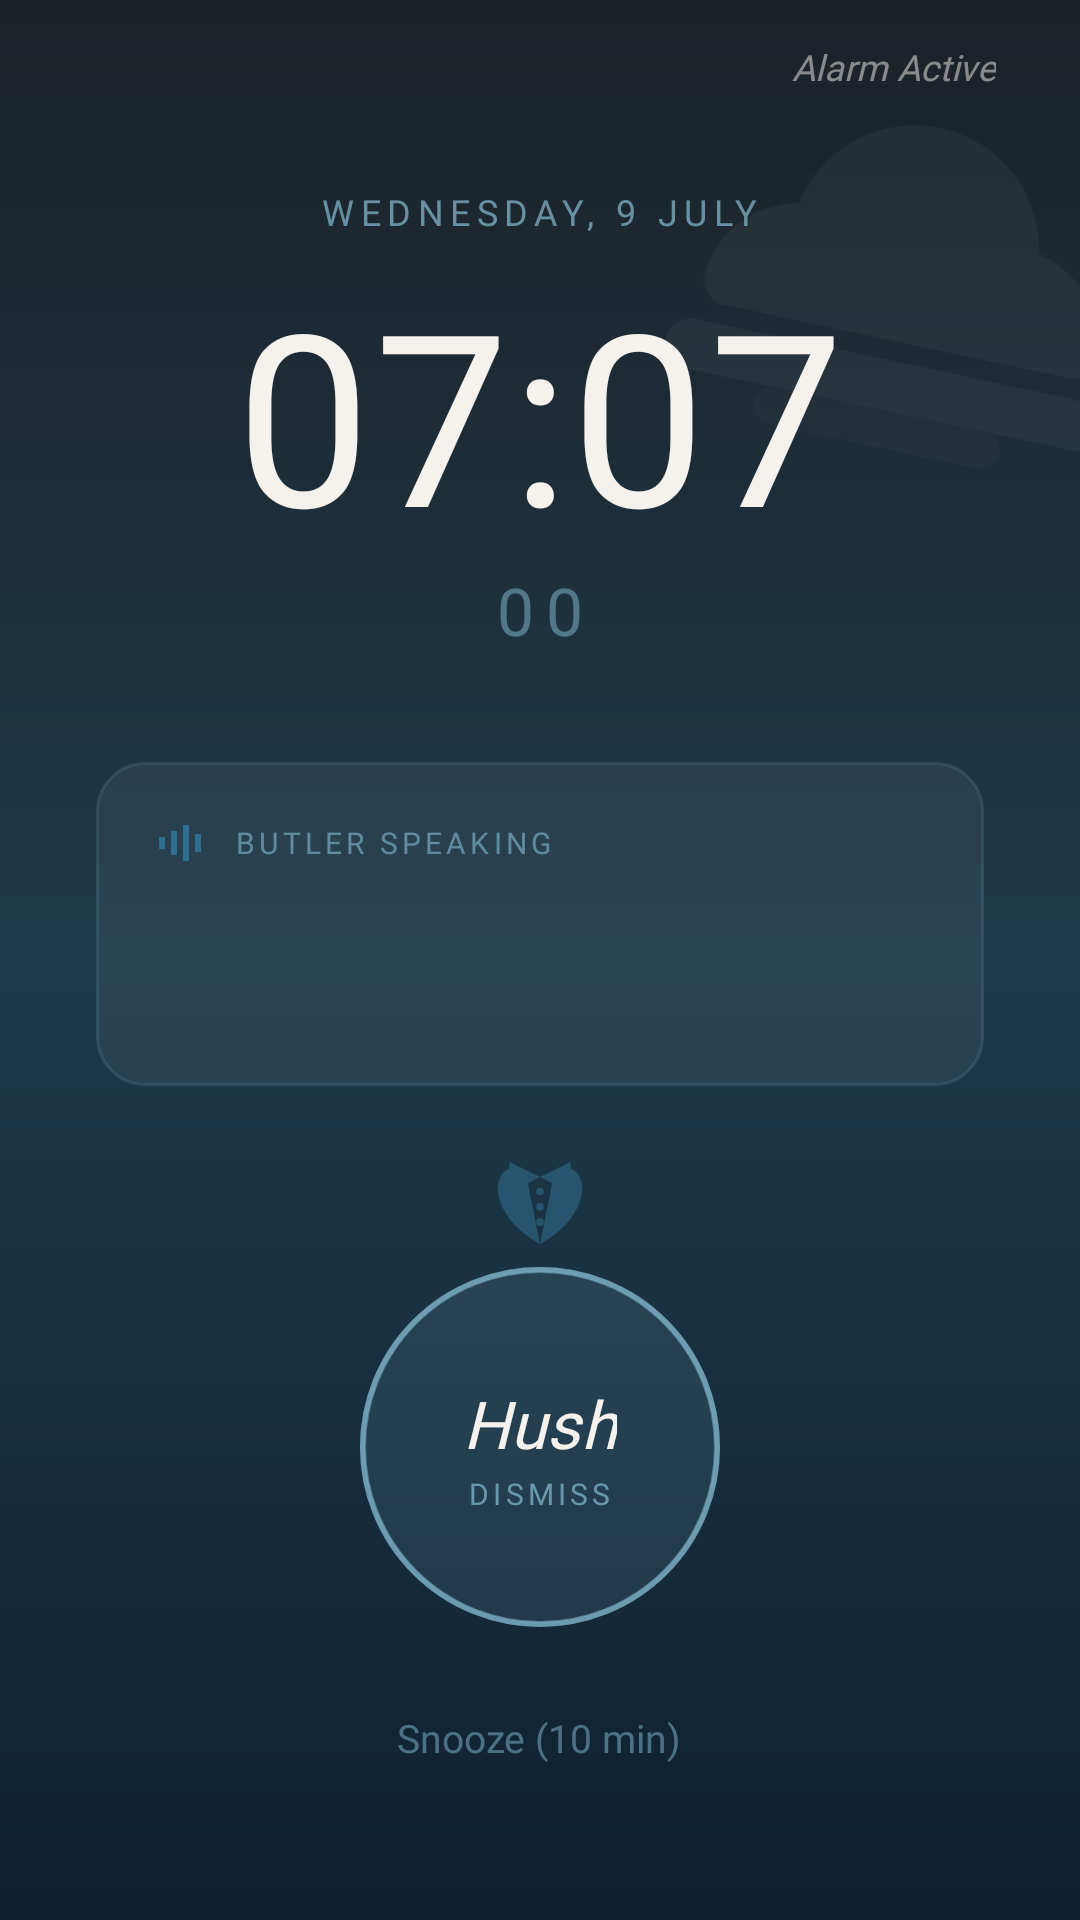

Where to tap for icons on this 1080*1920 app screen, as (x,y):
sound bars: (180,843)
tuxedo: (540,1203)
